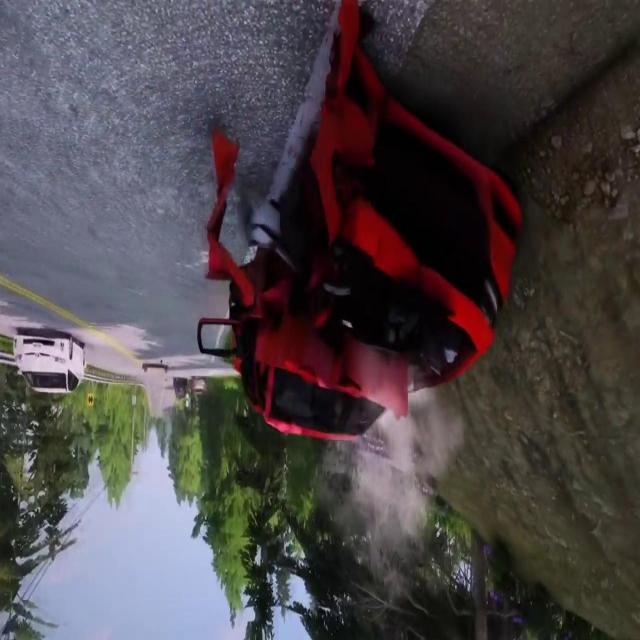vehicle: (162, 2, 538, 472)
